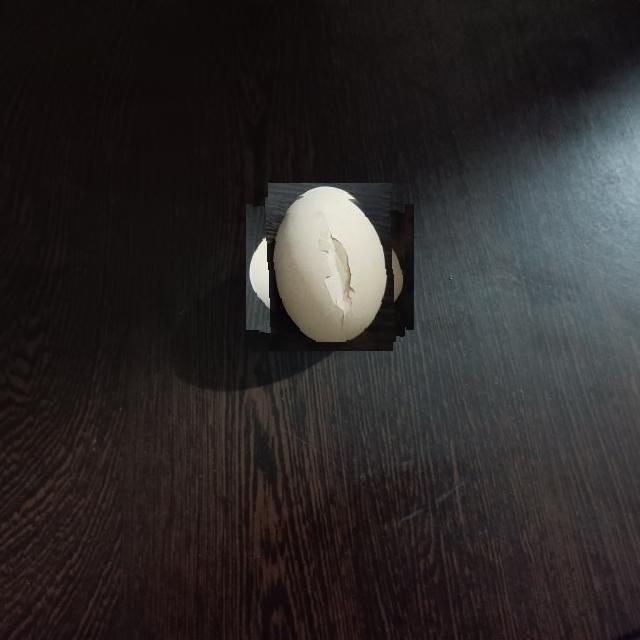biodegradable: (255, 193, 405, 342)
